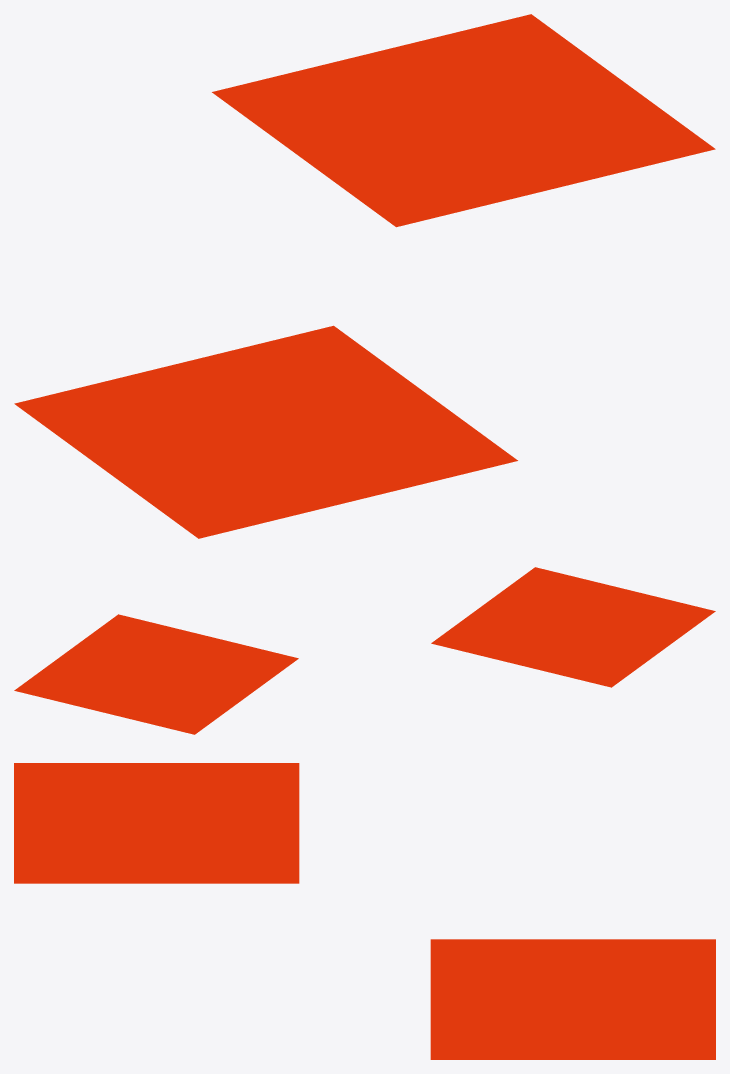
The picture shows the model from 3 angles, top to bottom: view 1: azimuth 30°, elevation 25°; view 2: azimuth 150°, elevation 25°; view 3: azimuth 270°, elevation 25°; orthographic projection. The views are drawn at different scales.
Parts seen in each view (by area): view 1: None_S_A_E_A_A_S_A_E_None; view 2: None_S_A_E_A_A_S_A_E_None; view 3: None_S_A_E_A_A_S_A_E_None.
Boxes of the visible parts, x1=… form: None_S_A_E_A_A_S_A_E_None: x1=14, y1=14, x2=715, y2=538; None_S_A_E_A_A_S_A_E_None: x1=14, y1=567, x2=715, y2=734; None_S_A_E_A_A_S_A_E_None: x1=14, y1=763, x2=715, y2=1059.
Size of the model in its own units: 100 by 0 by 100.
